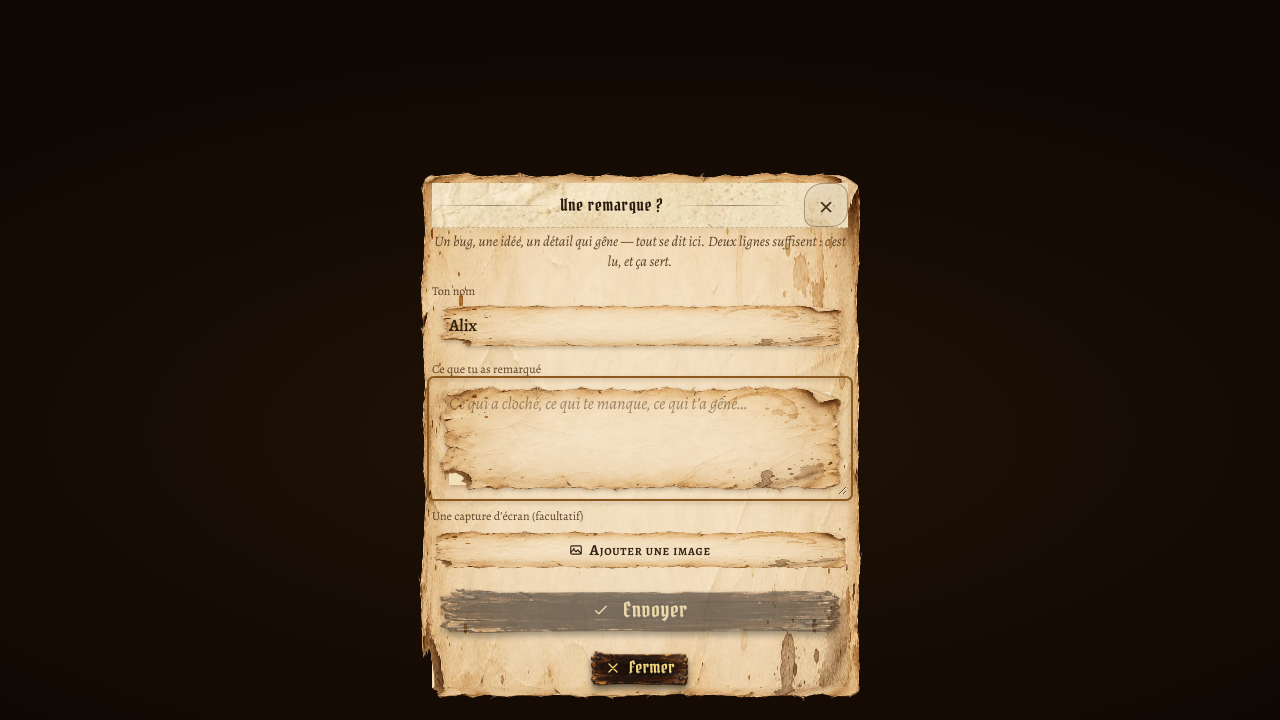
Test: quand l’envoi rate › recopie le message du serveur quand il en donne un — c’est lui qui sait combien de temps attendre
This screenshot has width=1280, height=720.
In the text box with test id "report-texte": (640, 439) [432,381,848,496], type "Encore un."
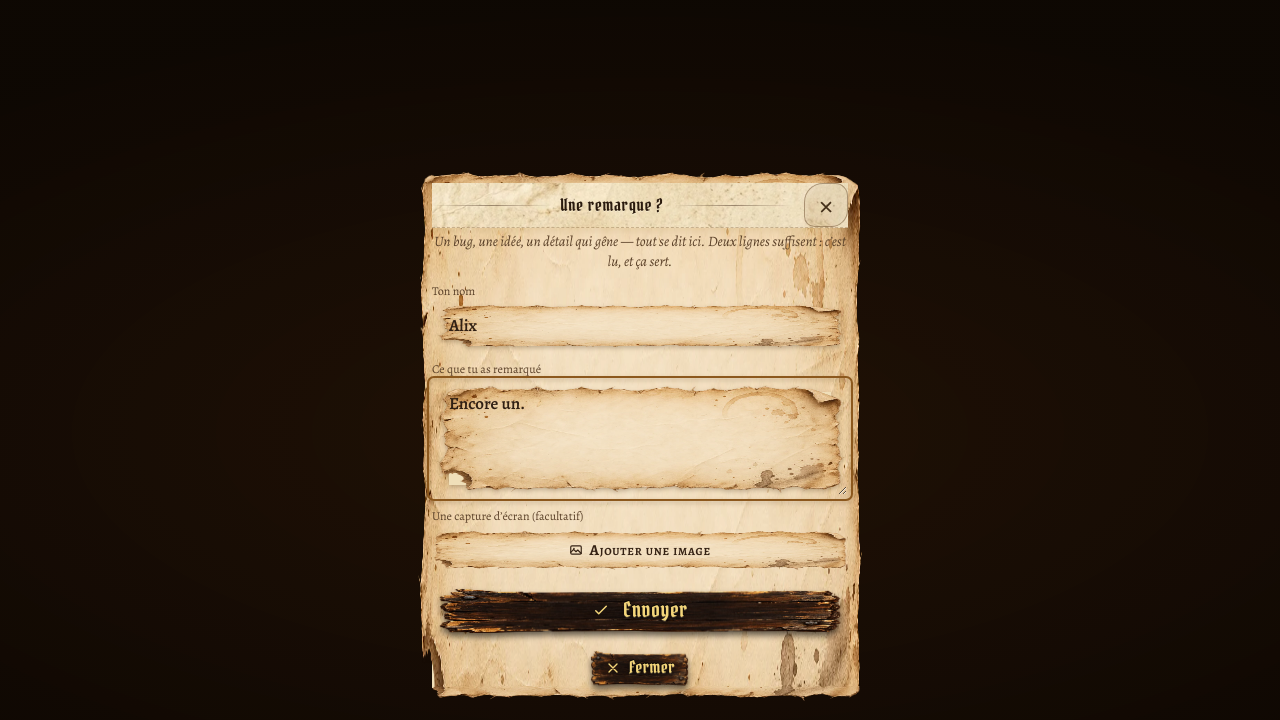
Click the button with test id "report-envoyer": (640, 610) [432,584,848,636]
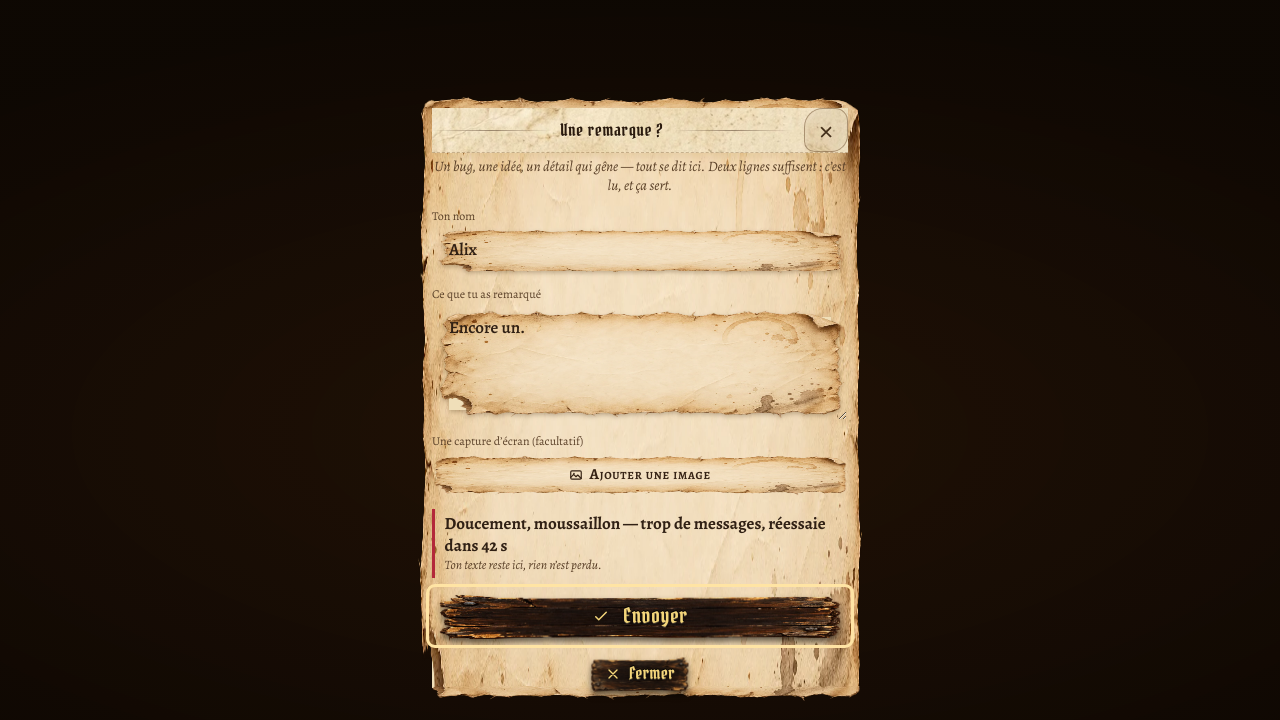
Check: the element with test id "report-note" shows "réessaie dans 42 s", box [445,512,826,557]
